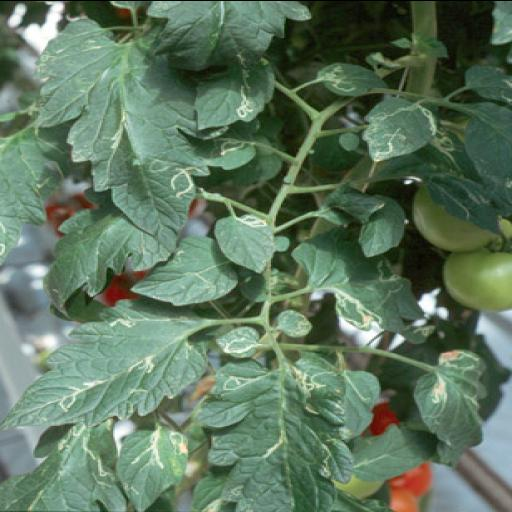disease_tomato: (32, 16, 210, 252), (0, 295, 211, 428), (188, 352, 356, 512), (144, 0, 314, 130), (113, 425, 188, 512), (360, 93, 440, 161), (215, 210, 277, 272)
